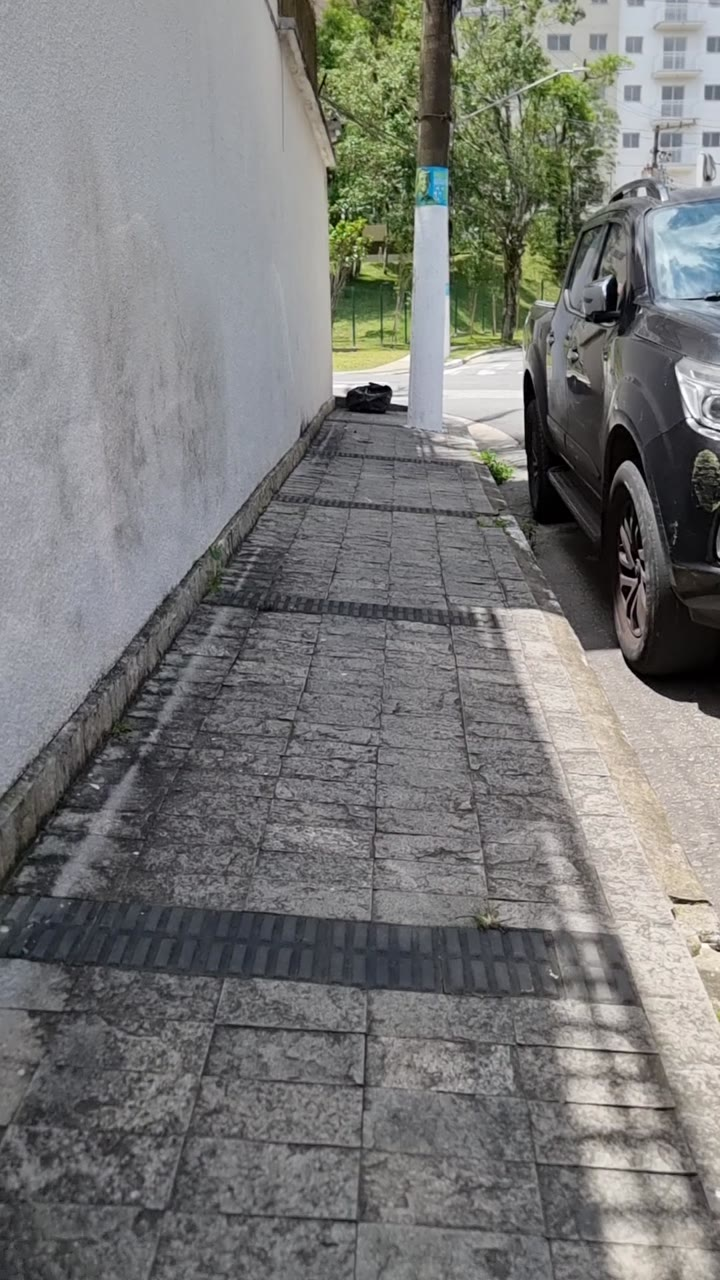obstaculo: (410, 0, 454, 422), (346, 371, 403, 422)
